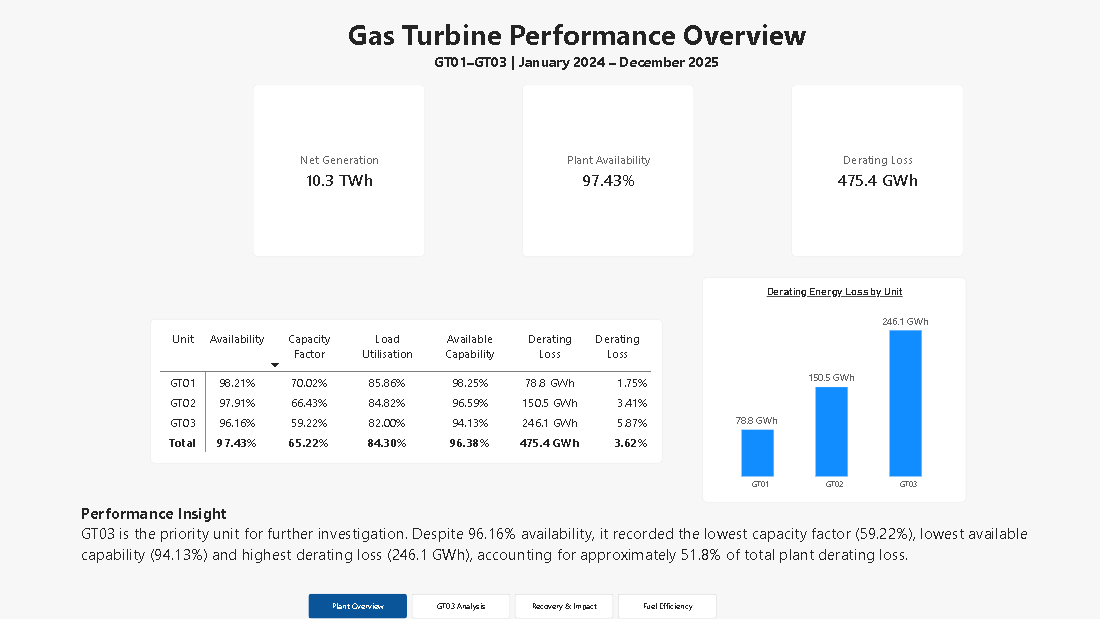

The dashboard page shown, as its layout file describes it:
{"tool":"powerbi","page":{"name":"Plant Overview","canvas":[1920,1080],"ordinal":0},"visuals":[{"type":"pivotTable","fields":{"Rows":["DimUnitTable.Unit"],"Values":["FactGenerationTable.Availability %","FactGenerationTable.Capacity Factor %","FactGenerationTable.Load Utilisation %","FactGenerationTable.Available Capability %","FactGenerationTable.Derating Loss GWh","FactGenerationTable.Derating Loss %"]},"box":[262.6,555.8,892.7,251.6],"z":0},{"type":"textbox","box":[476.6,26.6,1062.1,111.3],"z":1000},{"type":"cardVisual","fields":{"Data":["FactGenerationTable.Net Generation TWh"]},"box":[443,148.4,300,300],"z":2000},{"type":"cardVisual","fields":{"Data":["FactGenerationTable.Availability %"]},"box":[912.4,148.4,300,300],"z":3000},{"type":"cardVisual","fields":{"Data":["FactGenerationTable.Derating Loss TWh"]},"box":[1381.7,148.4,300,300],"z":4000},{"type":"clusteredColumnChart","title":"Derating Energy Loss by Unit","fields":{"Category":["DimUnitTable.Unit"],"Y":["FactGenerationTable.Derating Loss GWh"]},"box":[1225.5,483.2,459.7,391.9],"z":5000},{"type":"textbox","box":[142.7,875.8,1729.8,116.1],"z":6000},{"type":"pageNavigator","box":[539.5,1035.5,713.7,43.5],"z":6001}]}

Visuals, with their boxes in screenshot pixels (x1, y1, x2, y2), scaled from the page's 1920x1080 canvas onto the 1100x619 screenshot:
pivotTable - DimUnitTable.Unit x FactGenerationTable.Availability %: <region>150, 319, 662, 463</region>
textbox: <region>273, 15, 882, 79</region>
cardVisual - FactGenerationTable.Net Generation TWh: <region>254, 85, 426, 257</region>
cardVisual - FactGenerationTable.Availability %: <region>523, 85, 695, 257</region>
cardVisual - FactGenerationTable.Derating Loss TWh: <region>792, 85, 963, 257</region>
"Derating Energy Loss by Unit" clusteredColumnChart: <region>702, 277, 965, 502</region>
textbox: <region>82, 502, 1073, 569</region>
pageNavigator: <region>309, 593, 718, 618</region>
